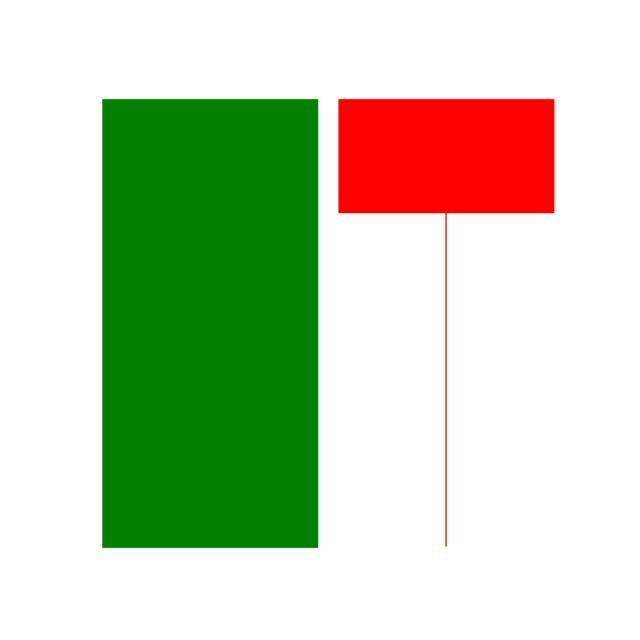Hanging Man: (328, 94, 566, 552)
